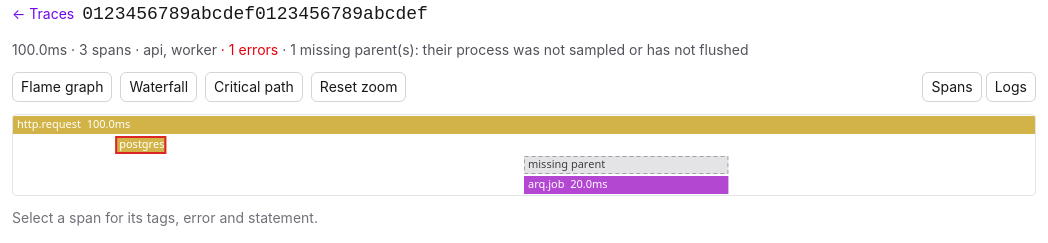
Test case: TraceView › summarizes the trace, names missing parents and shows the waterfall rows
Expected: the text "3 spans" is shown, [12,41,749,58]
Expected: the text "· 1 errors" is shown, [217,41,278,58]
Step 1. Click the button "Waterfall" → click(159, 87), box [120,72,197,102]
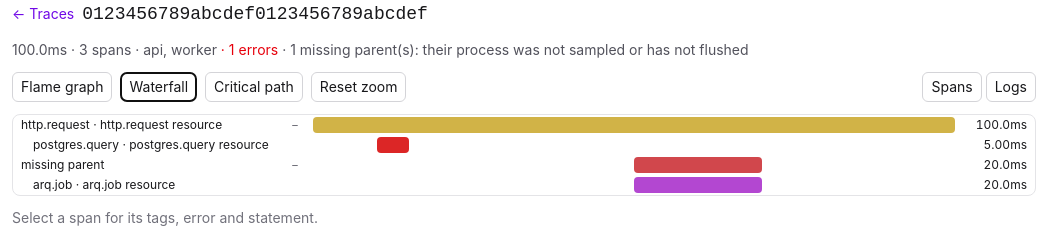
Result: the button "postgres.query · postgres.query resource" is shown at [21,137,277,153]
Result: the button "missing parent" is shown at [21,157,277,173]
